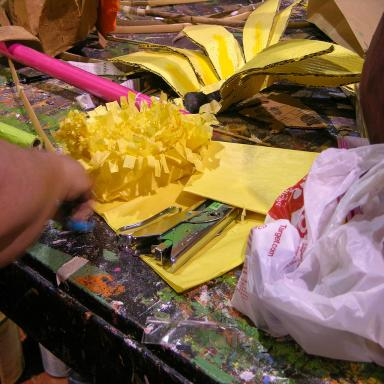plasticbag: (228, 142, 384, 369)
